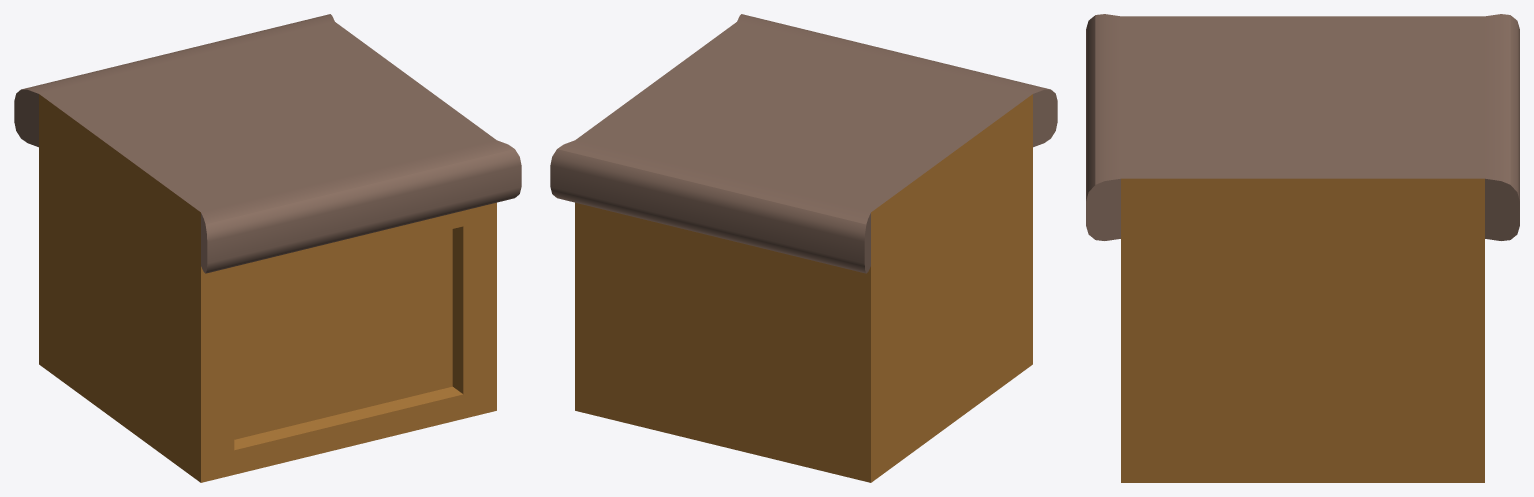
File: small station 1.fbx
3 renders of one model, left to right at view 1: azimuth 30°, elevation 25°; view 2: azimuth 150°, elevation 25°; view 3: azimuth 270°, elevation 25°, orthographic. The views are drawn at different scales.
Parts seen in each view (by area): view 1: counter3; view 2: counter3; view 3: counter3.
Boxes of the visible parts, x1=… form: counter3: x1=14, y1=14, x2=521, y2=482; counter3: x1=550, y1=14, x2=1057, y2=482; counter3: x1=1086, y1=14, x2=1519, y2=482.
Size of the model in its own units: 103 by 84.34 by 109.
Materials: 2 (2 with a texture image).
